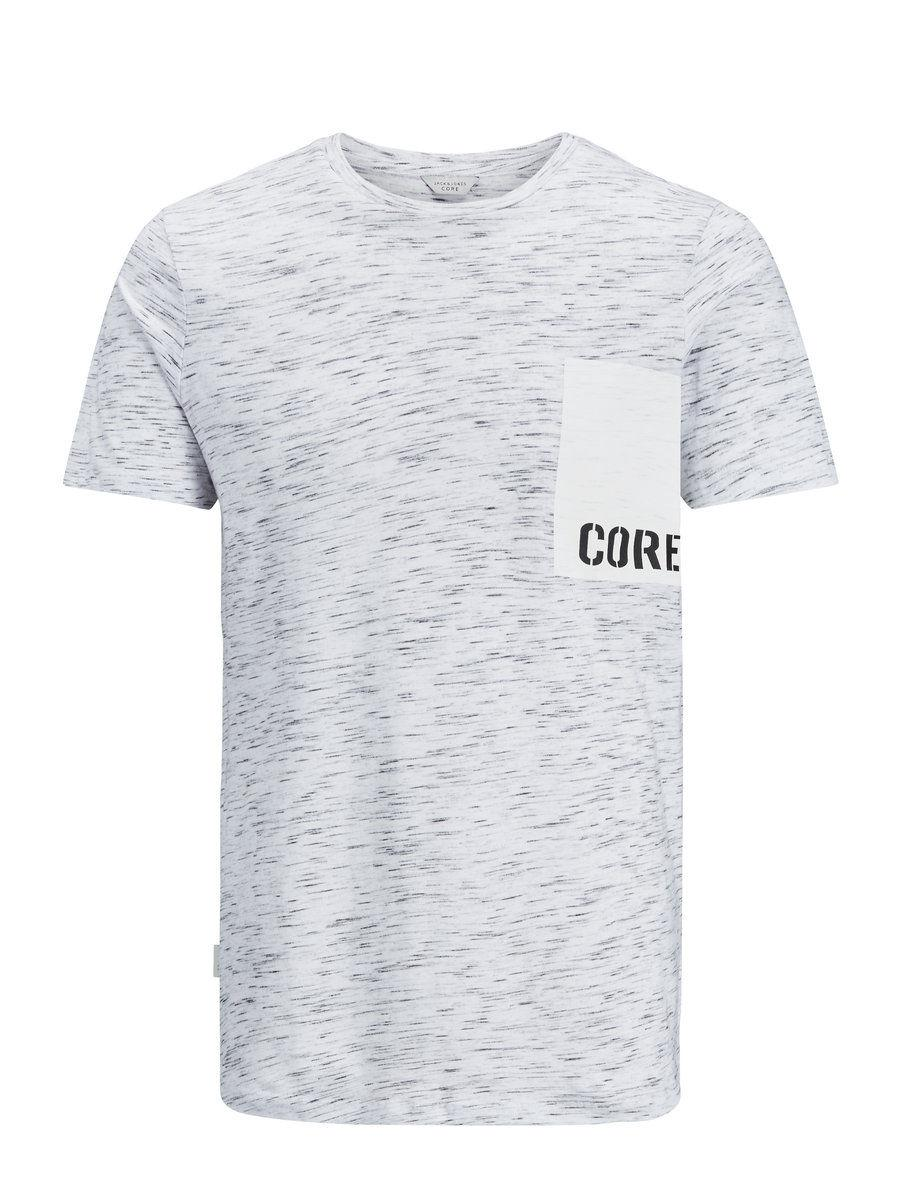teeshirt: (62, 120, 871, 1158)
